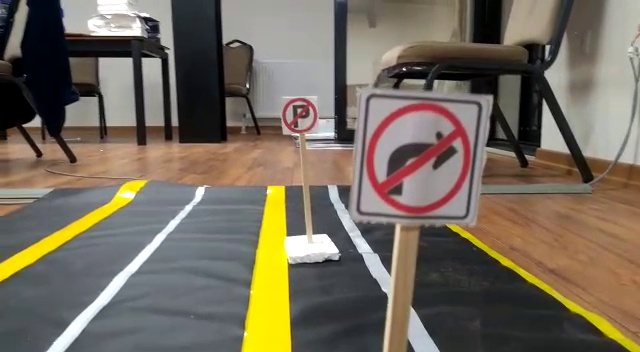park_yapilmaz: (279, 95, 318, 134)
saga_donulmez: (361, 94, 478, 221)
